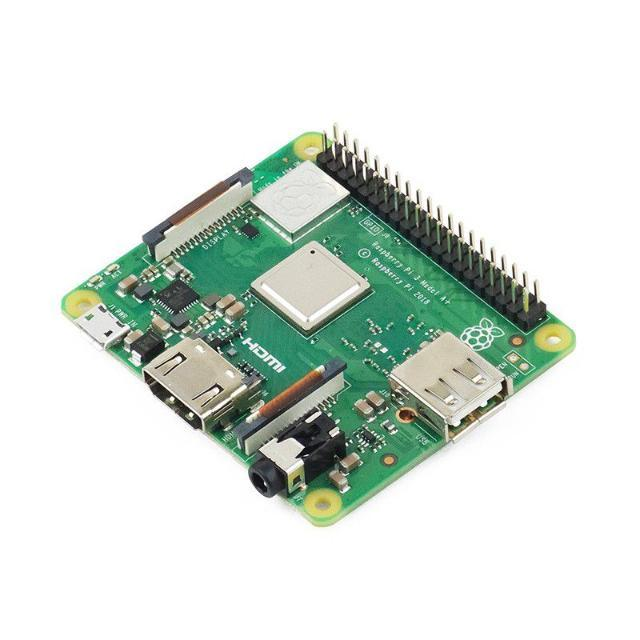Raspberry-Pi-3-A-: (63, 131, 576, 525)
